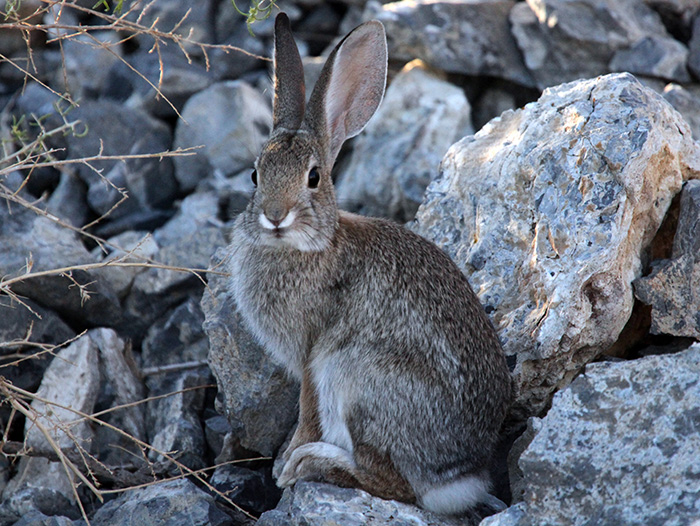bunny: (183, 8, 545, 514)
